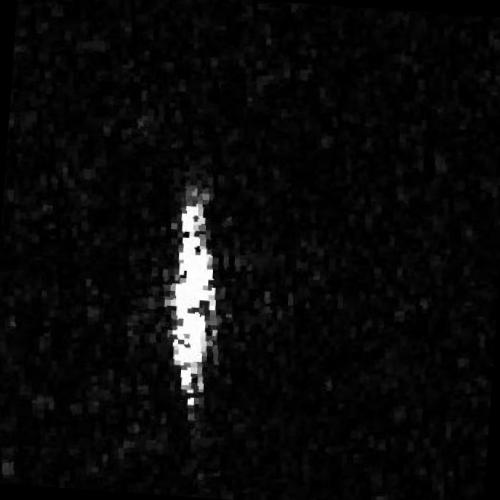ship: (170, 193, 215, 406)
